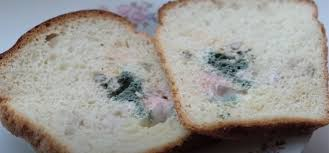mold_bread: (90, 67, 174, 122), (191, 44, 260, 100), (211, 105, 235, 126)
